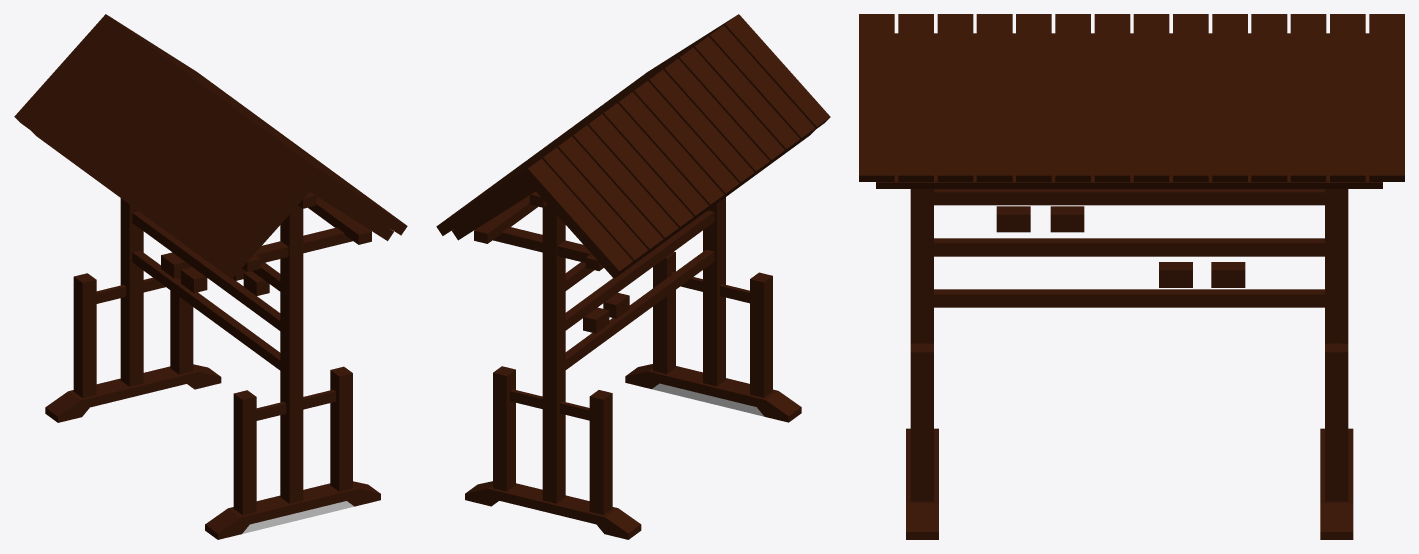
File: Ema.fbx
3 views of the same model, side by side, from view 1: azimuth 30°, elevation 25°; view 2: azimuth 150°, elevation 25°; view 3: azimuth 270°, elevation 25° (orthographic). The views are drawn at different scales.
Parts seen in each view (by area): view 1: 立方体.001, 立方体.008, 立方体.010, 立方体.007, 立方体.021, 立方体.017, 立方体.012, 立方体.020, 立方体.011, 立方体, 立方体.019, 立方体.006 (+7 smaller); view 2: 立方体.001, 立方体.007, 立方体.010, 立方体.008, 立方体.021, 立方体.017, 立方体.020, 立方体.012, 立方体.019, 立方体.011, 立方体, 立方体.005 (+6 smaller); view 3: 立方体.001, 立方体.010, 立方体, 立方体.011, 立方体.019, 立方体.007, 立方体.008, 立方体.021, 立方体.017, 立方体.013, 立方体.014, 立方体.016 (+1 smaller).
Boxes of the visible parts, <box> form: 立方体.001: <box>14,14,407,276</box>; 立方体.008: <box>280,205,303,503</box>; 立方体.010: <box>132,211,280,370</box>; 立方体.007: <box>120,198,143,386</box>; 立方体.021: <box>45,364,221,422</box>; 立方体.017: <box>205,481,380,539</box>; 立方体.012: <box>233,390,256,515</box>; 立方体.020: <box>73,273,96,397</box>; 立方体.011: <box>330,366,352,491</box>; 立方体: <box>31,131,393,278</box>; 立方体.019: <box>170,263,193,374</box>; 立方体.006: <box>255,227,352,263</box>; 立方体.001: <box>436,14,830,277</box>; 立方体.007: <box>542,205,565,503</box>; 立方体.010: <box>565,210,714,369</box>; 立方体.008: <box>703,197,725,386</box>; 立方体.021: <box>465,481,641,539</box>; 立方体.017: <box>625,364,801,422</box>; 立方体.020: <box>589,390,612,514</box>; 立方体.012: <box>750,272,772,397</box>; 立方体.019: <box>493,366,515,491</box>; 立方体.011: <box>653,251,675,374</box>; 立方体: <box>452,130,814,278</box>; 立方体.005: <box>493,226,591,262</box>; 立方体.001: <box>859,14,1404,181</box>; 立方体.010: <box>934,189,1324,307</box>; 立方体: <box>876,33,1382,188</box>; 立方体.011: <box>910,343,933,501</box>; 立方体.019: <box>1325,343,1348,501</box>; 立方体.007: <box>1325,189,1348,343</box>; 立方体.008: <box>910,189,933,343</box>; 立方体.021: <box>1320,428,1353,539</box>; 立方体.017: <box>906,428,938,539</box>; 立方体.013: <box>996,206,1030,232</box>; 立方体.014: <box>1050,206,1084,232</box>; 立方体.016: <box>1211,262,1245,287</box>.
Size of the model in its own units: 199 by 381 by 397.
